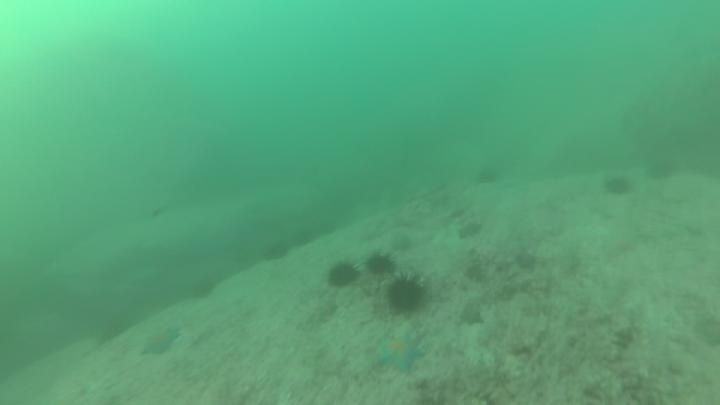echinus: (383, 271, 429, 317), (324, 258, 361, 291), (363, 249, 398, 278), (644, 155, 679, 184), (600, 172, 634, 199), (188, 274, 219, 302), (261, 238, 293, 264), (473, 163, 502, 188)
starfish: (373, 329, 427, 375), (137, 322, 184, 360), (456, 300, 487, 329), (511, 247, 540, 275), (455, 218, 485, 242)
